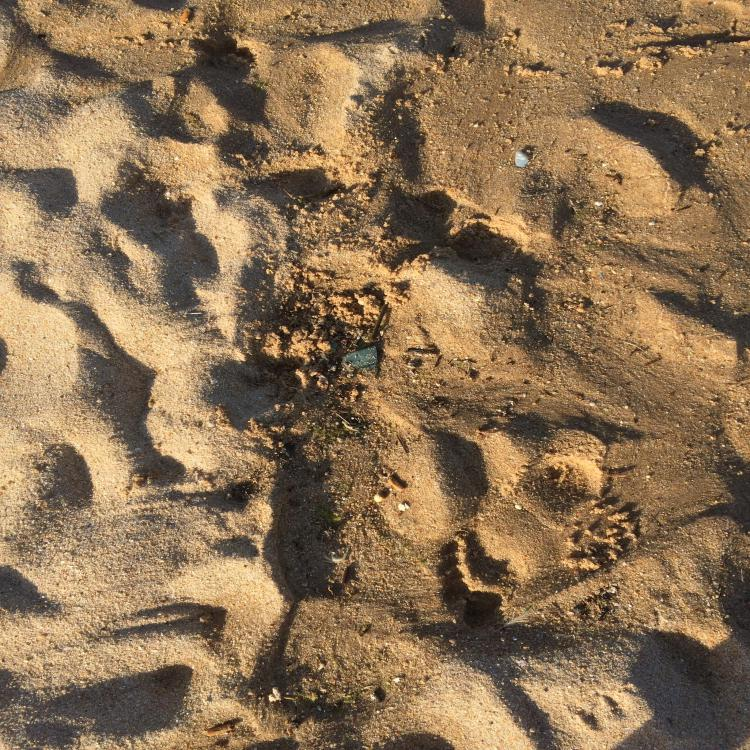Cigarette: (208, 722, 235, 736), (386, 475, 406, 492), (179, 8, 193, 25)
Other plastic wrapper: (338, 346, 378, 370)
